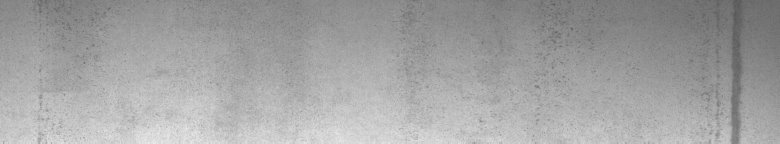ib: (404, 12, 572, 128)
